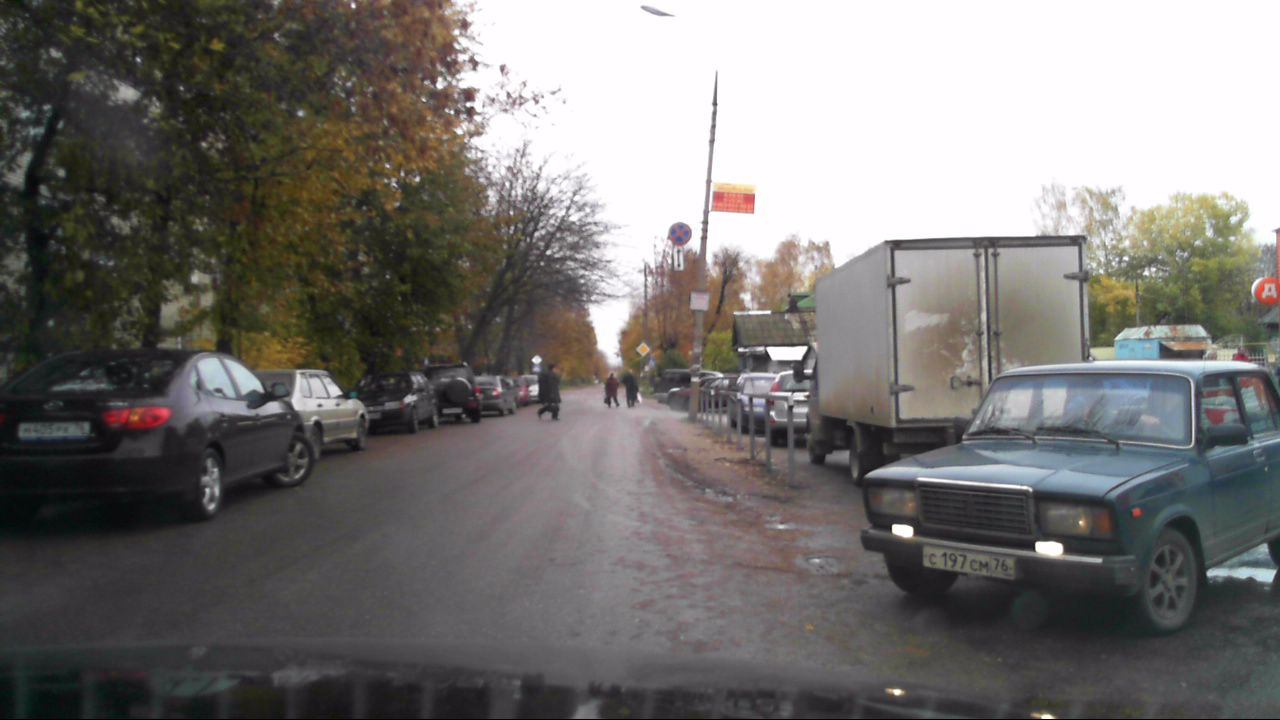No Parking: (668, 221, 692, 245)
